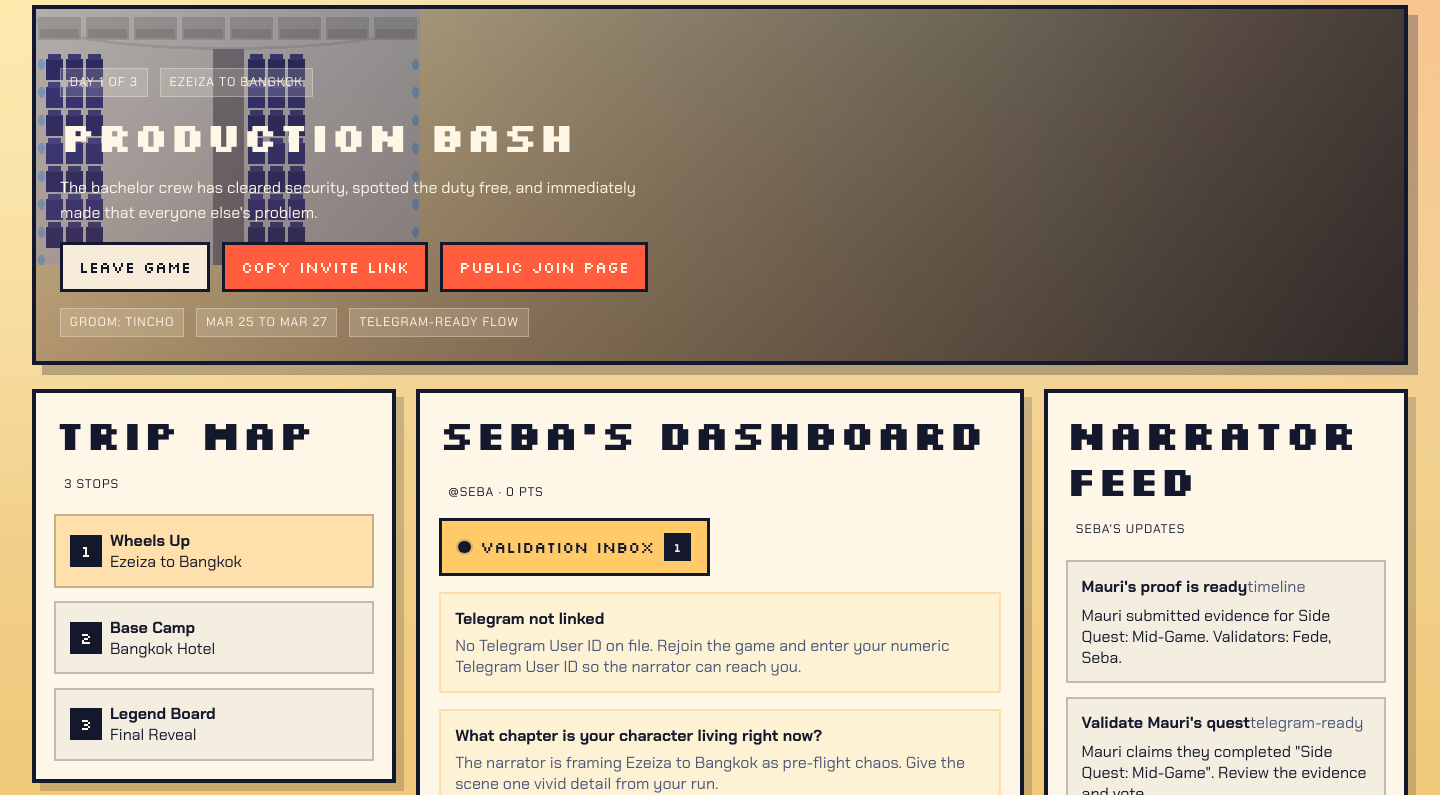
Test: GameClient validation inbox › shows a pending-review badge count for evidence from other players
The image size is (1440, 795).
Expected: the text "1" below "Seba's dashboard" is shown, [673,539,681,555]
Click the button "Validation inbox 1": (574, 547) [439,518,710,576]
(page scrolled)
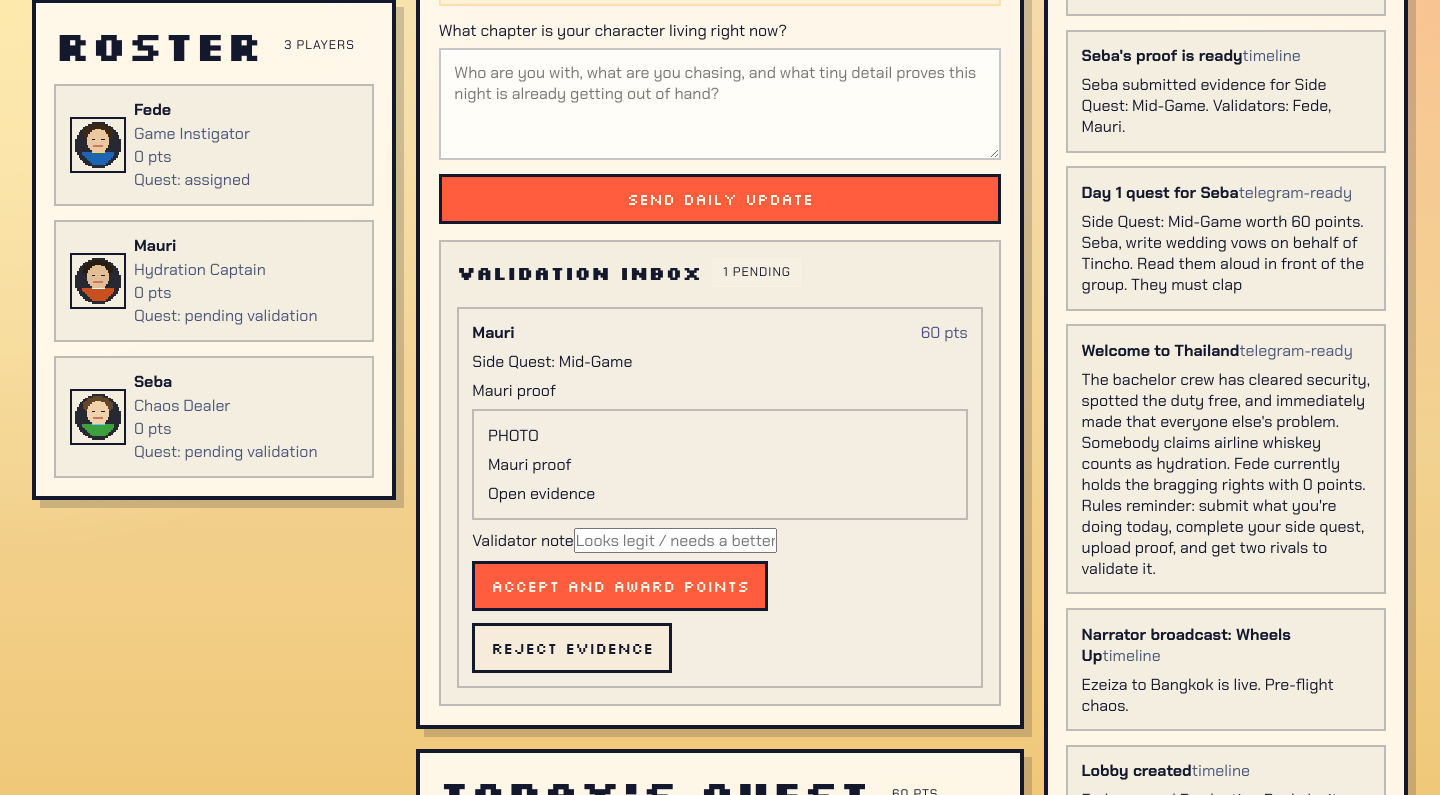
Expected: the element "Validation inbox" is shown, [439,240,1001,706]
Expected: the 1st text "Mauri proof" is shown, [472,380,556,401]
